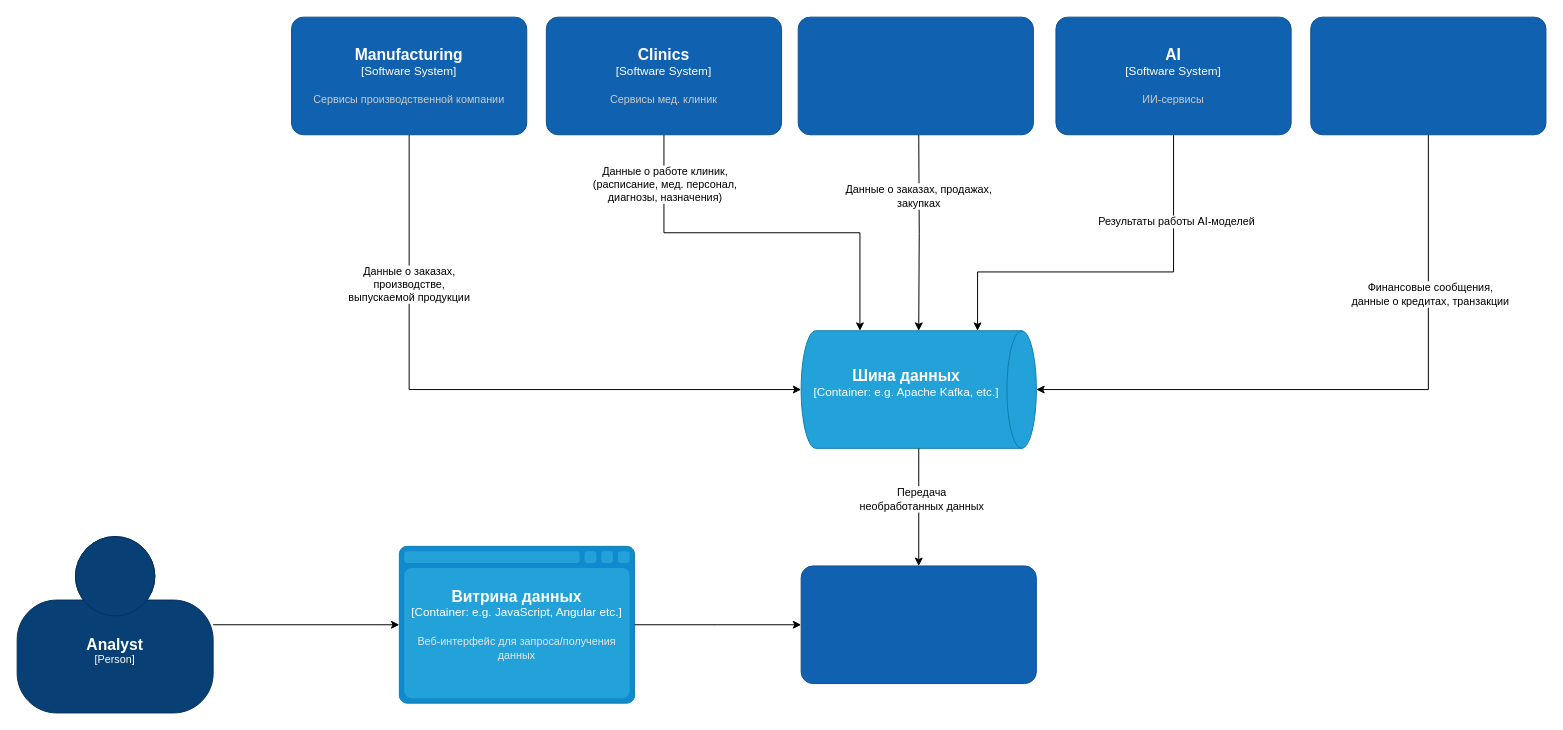
This 1563x730 diagram has some shape labels left out. The centre of each missing label's shape, as x and y in pixels:
Data Lakehouse [Software System]: (x=918, y=624)
Fintech [Software System] Финтех сервисы, банк: (x=1428, y=75)
Pharma [Software System] Сервисы фарм. компаний: (x=915, y=75)
